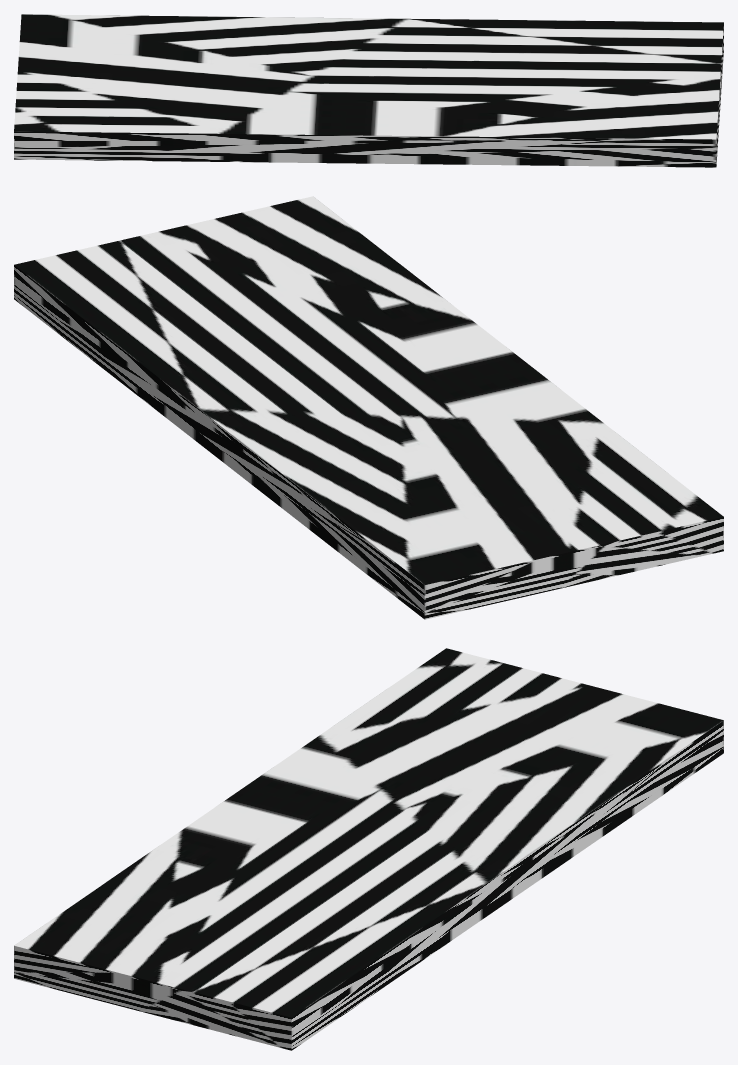
The picture shows the model from 3 angles, top to bottom: view 1: azimuth 30°, elevation 25°; view 2: azimuth 150°, elevation 25°; view 3: azimuth 270°, elevation 25°; orthographic projection. The views are drawn at different scales.
Parts seen in each view (by area): view 1: Cube.007; view 2: Cube.007; view 3: Cube.007.
Boxes of the visible parts, <box> form: Cube.007: <box>14,14,723,167</box>; Cube.007: <box>14,196,723,619</box>; Cube.007: <box>14,648,723,1050</box>.
Size of the model in its own units: 8.6 by 0.3583 by 6.99.
Materials: 1 (1 with a texture image).
